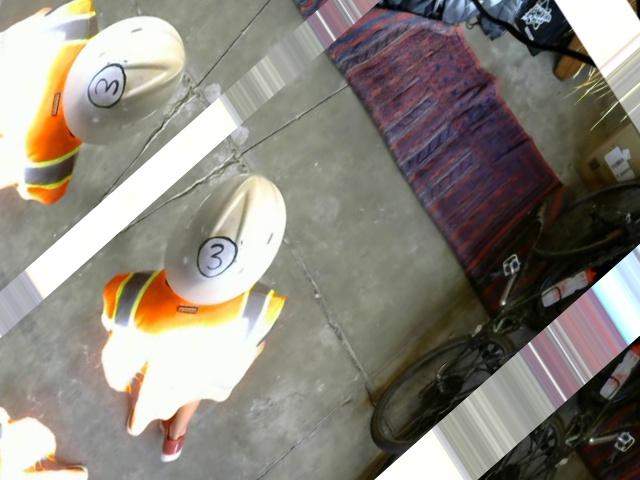three: (189, 223, 244, 286)
